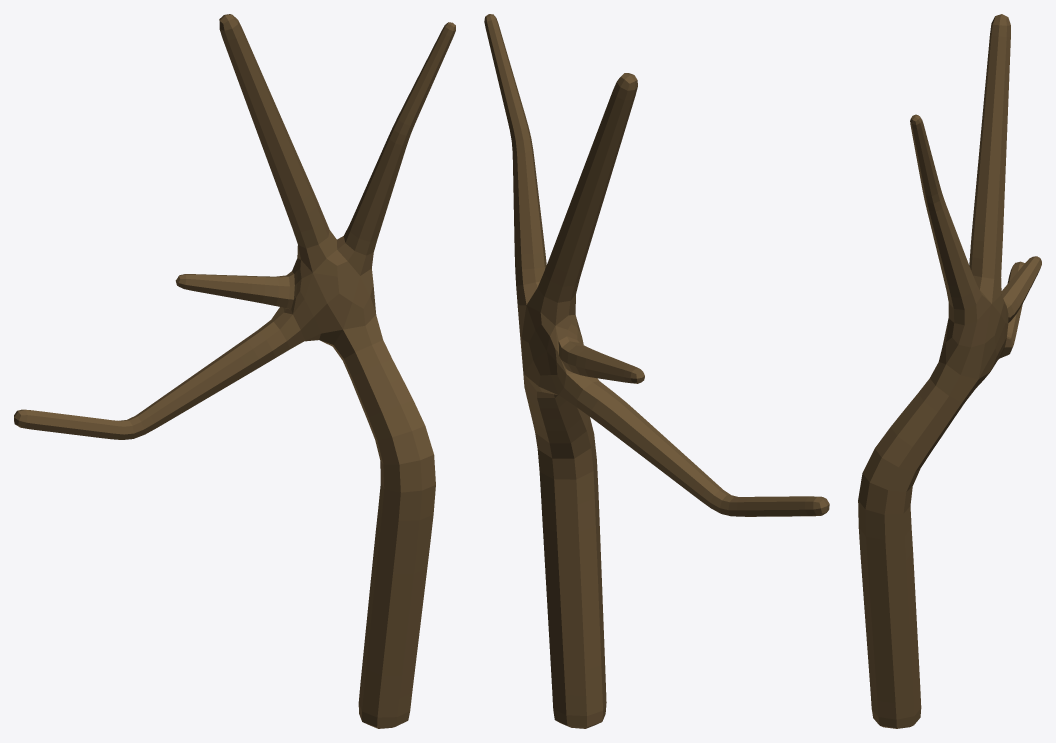
Rendered from RamaP01.fbx.
3 renders of one model, left to right at view 1: azimuth 30°, elevation 25°; view 2: azimuth 150°, elevation 25°; view 3: azimuth 270°, elevation 25°, orthographic. The views are drawn at different scales.
Visible parts, largest first — view 1: Plane.003; view 2: Plane.003; view 3: Plane.003.
Part boxes in pixels (x1=…): Plane.003: x1=14, y1=14, x2=455, y2=728; Plane.003: x1=484, y1=14, x2=829, y2=728; Plane.003: x1=858, y1=14, x2=1041, y2=728.
Size of the model in its own units: 151 by 258 by 65.14.
